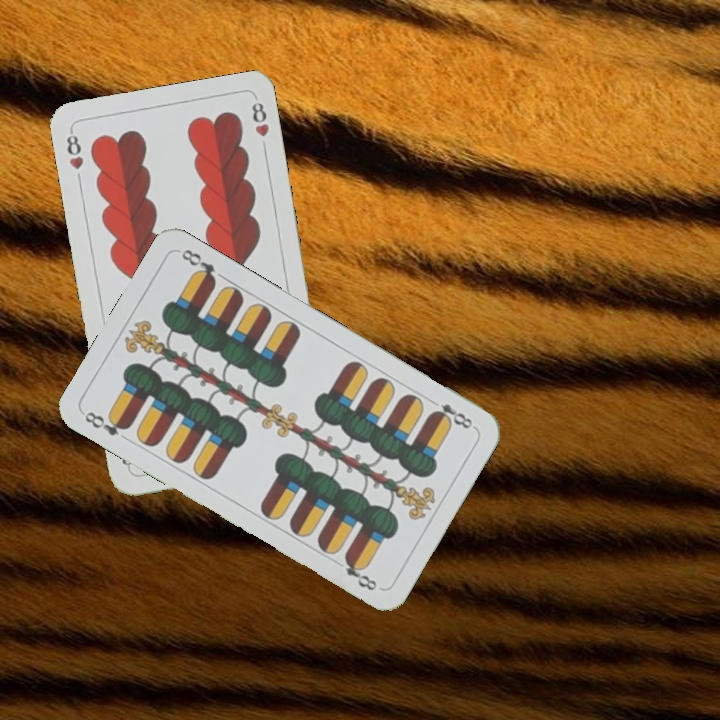E8: (426, 394, 478, 432), (80, 407, 133, 439)
H8: (62, 126, 87, 172)
